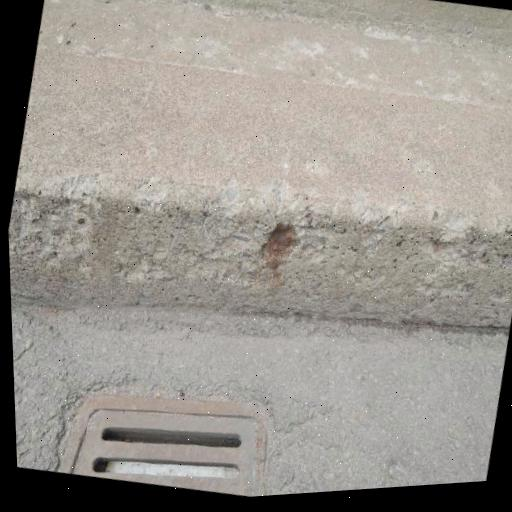exposed_rebar: (262, 223, 296, 270)
